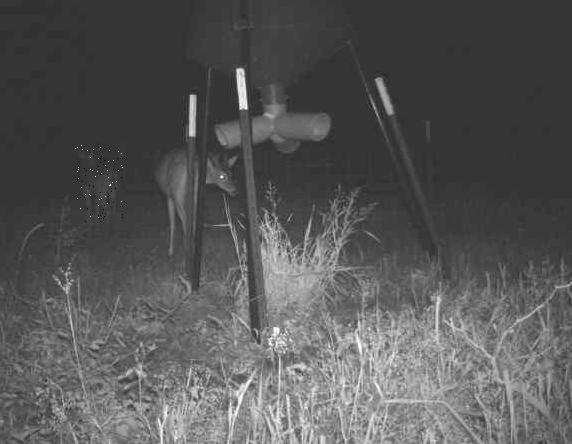Deer: (155, 146, 240, 266), (75, 146, 124, 223)
